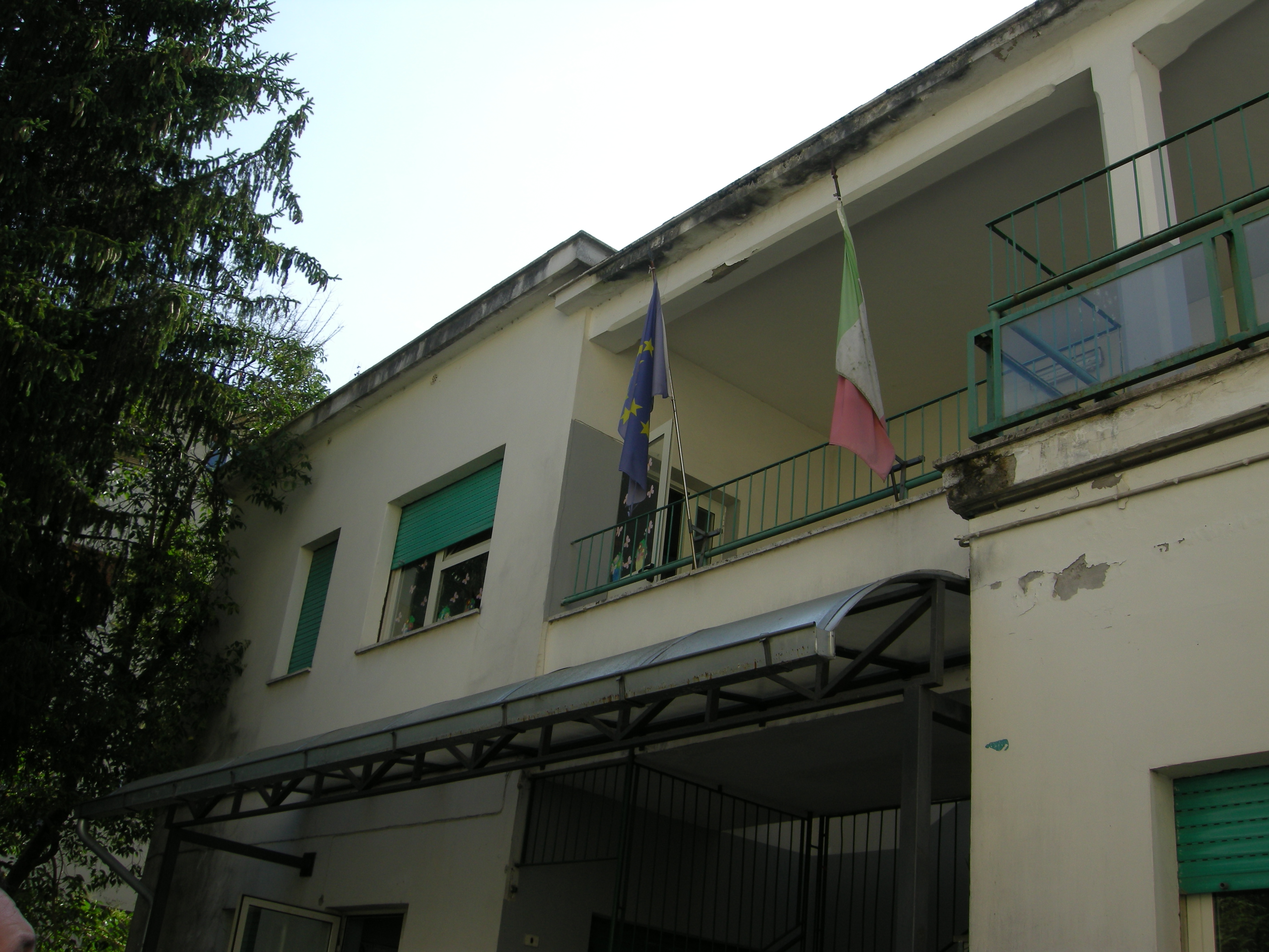Spalling: (975, 535, 1218, 617)
